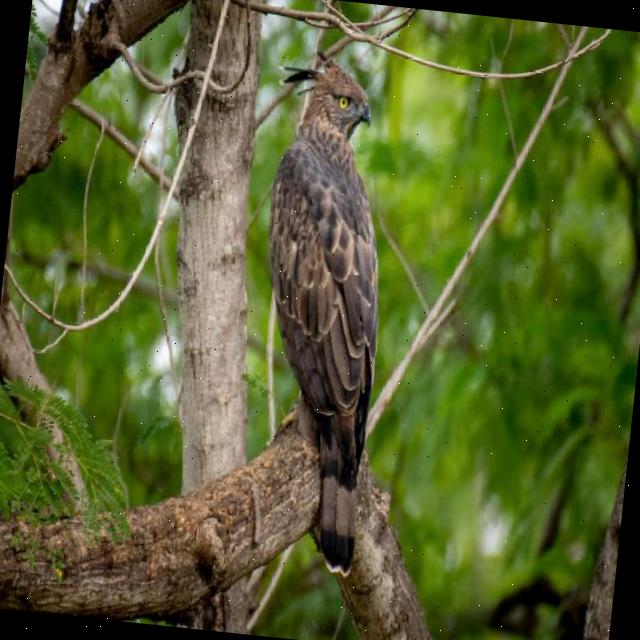Elang Jawa: (218, 29, 448, 614)
